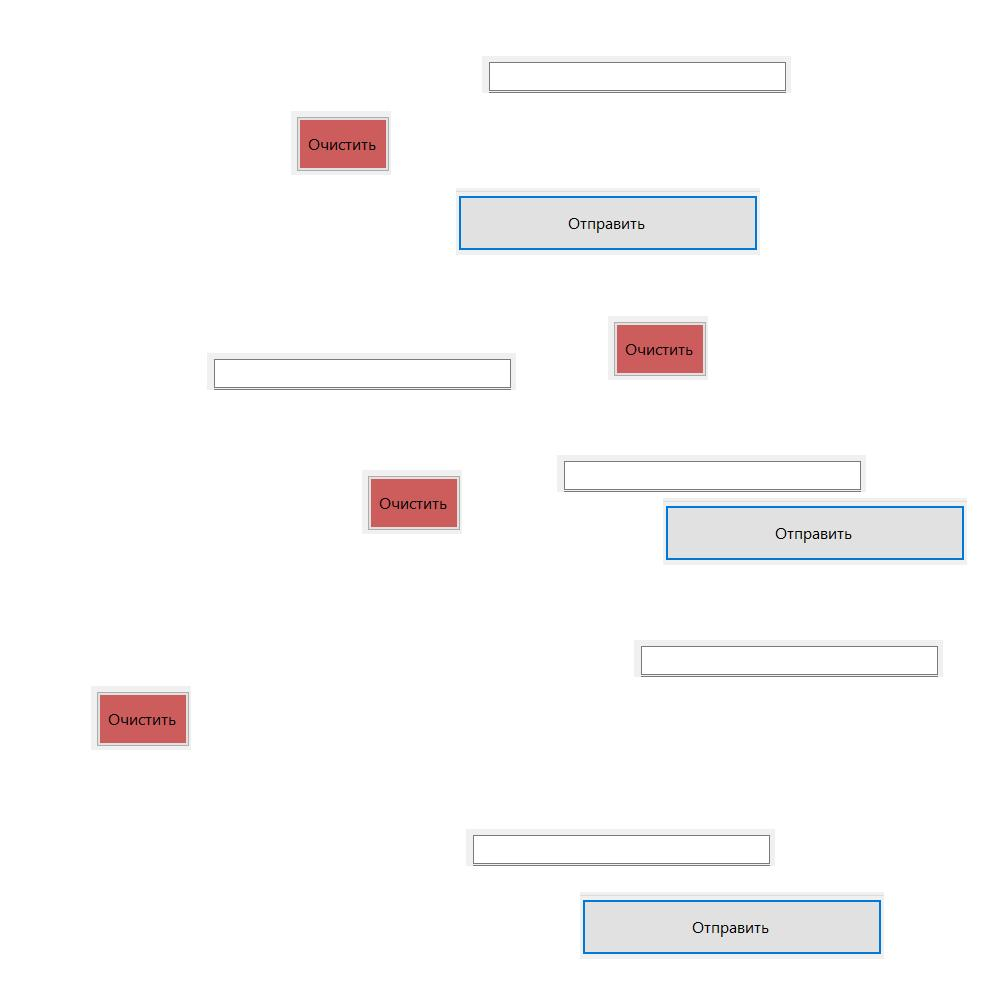Button: (580, 892, 884, 959), (663, 498, 967, 565), (456, 188, 760, 255), (362, 470, 462, 534), (91, 686, 191, 750), (291, 111, 391, 175), (608, 316, 708, 380)
EditText-: (634, 640, 943, 677), (207, 353, 516, 390), (557, 455, 866, 492), (482, 56, 791, 93), (466, 829, 775, 866)
